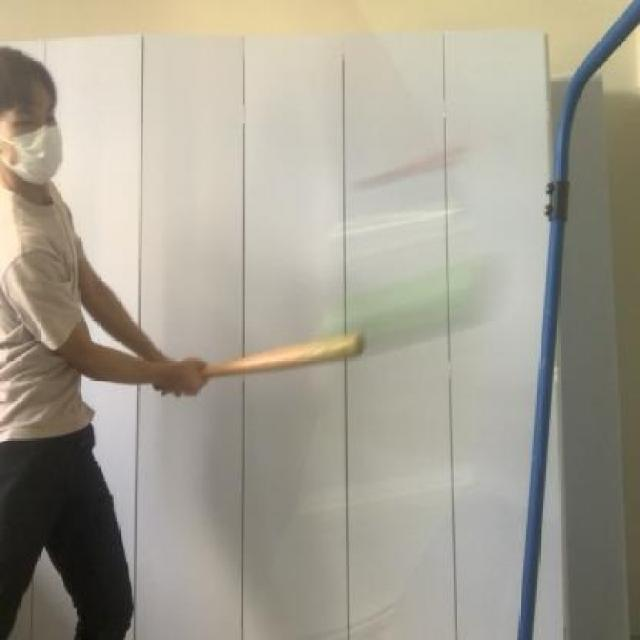baseball: (320, 268, 509, 350)
